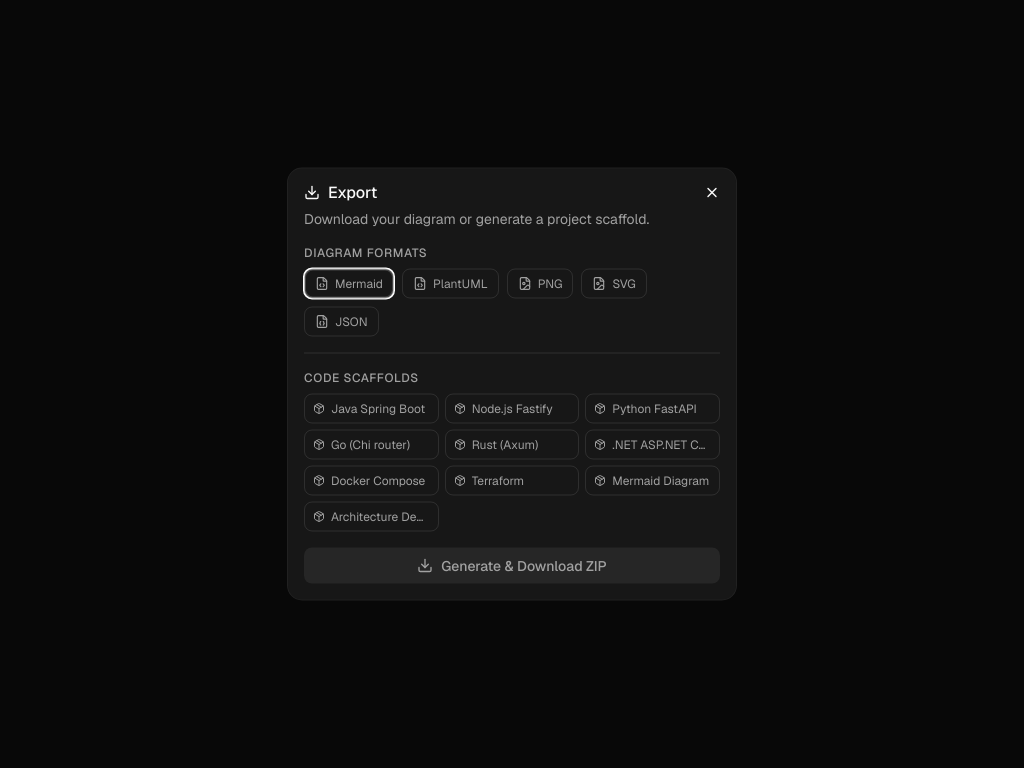
Test: ExportDialog › re-enables generate and clears the hint when the canvas has nodes
Click the button "Java Spring Boot": (371, 408) left=304, top=394, right=439, bottom=424
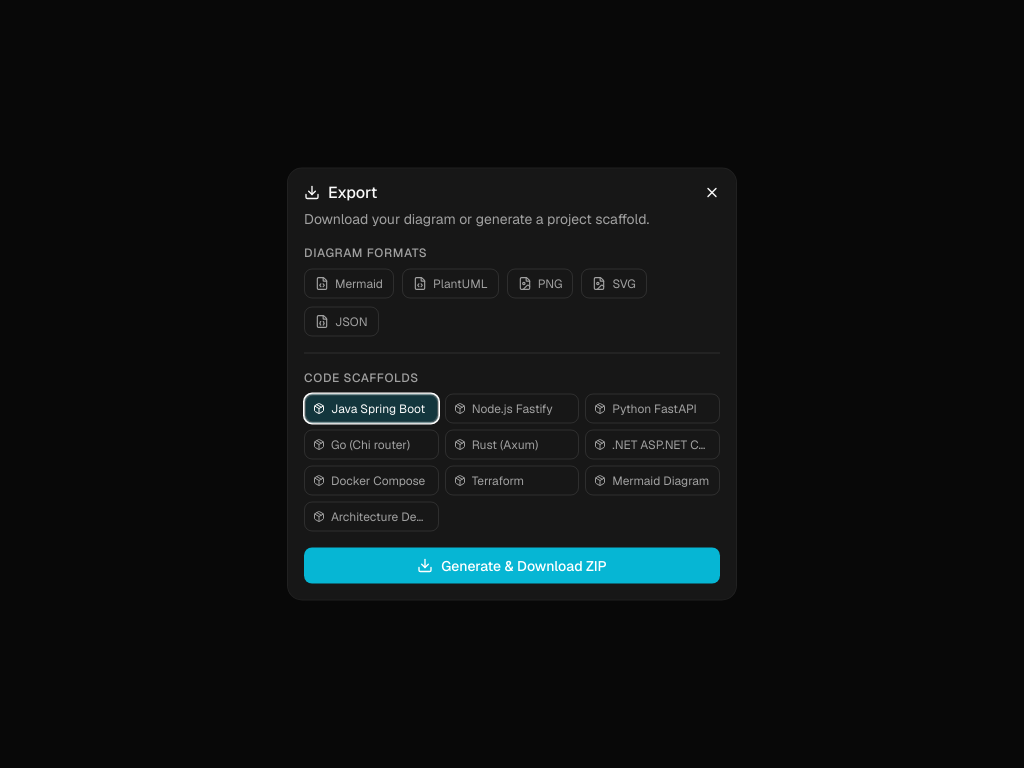
Expected: the button "Generate & Download ZIP" is enabled, left=304, top=548, right=720, bottom=584
